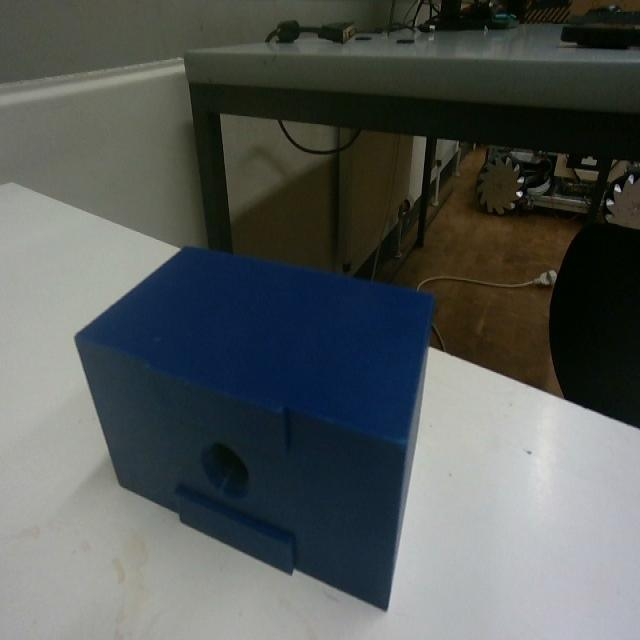Blue Cuboid: (72, 240, 436, 611)
